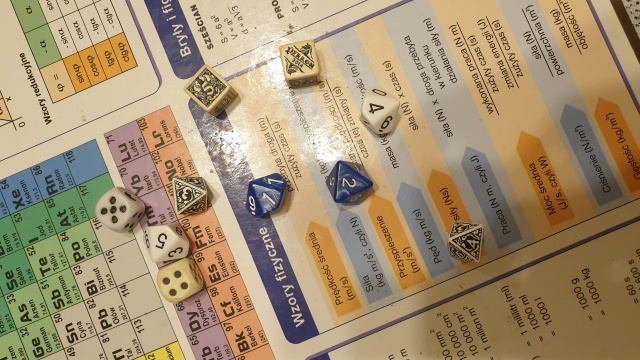d10-1: (241, 172, 291, 218)
d10-2: (322, 158, 375, 206)
d10-4: (359, 81, 404, 140)
d10-5: (142, 221, 190, 261)
d6-4: (155, 260, 206, 302)
d6-5: (90, 185, 145, 235)
d6p-1: (276, 40, 323, 84)
d6p-5: (182, 64, 235, 117)
d8p-3: (169, 173, 211, 217)
d8p-4: (445, 221, 488, 265)
